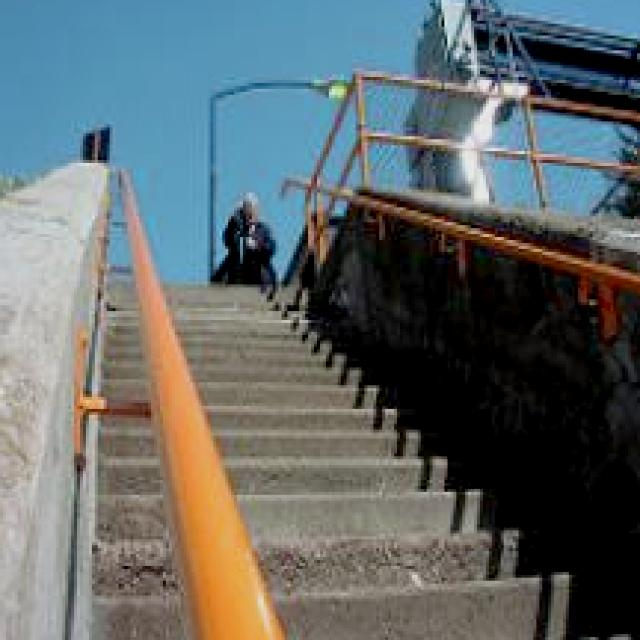upstair: (105, 262, 525, 626)
